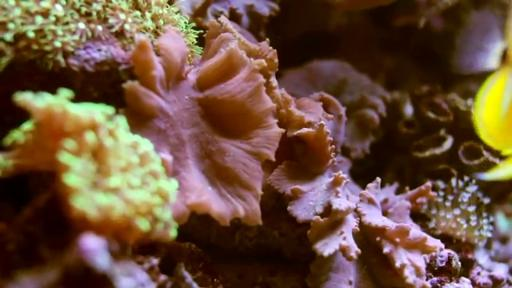Fish: (472, 6, 511, 180)
